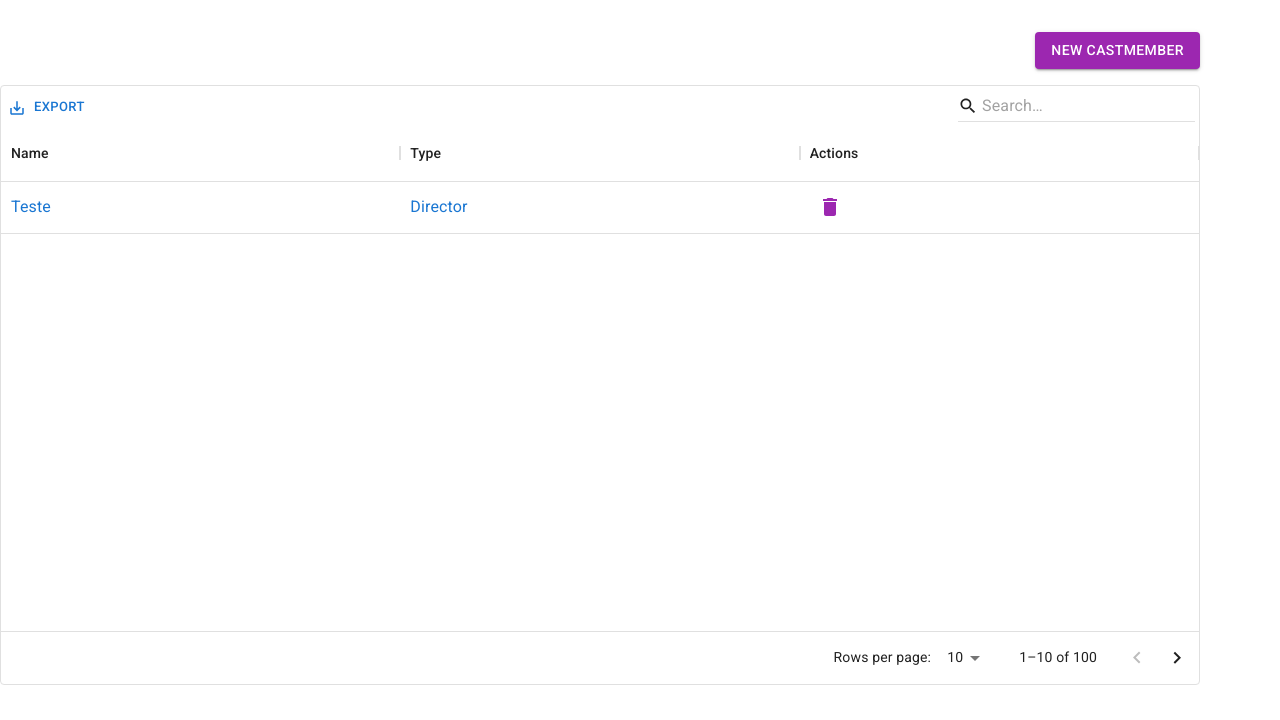
ListCastMembers › should handle Delete Category error
The image size is (1280, 720).
Expected: the text "Teste" is shown, left=11, top=195, right=51, bottom=219
Click the button with test id "delete-button".
click(830, 207)  # box left=810, top=187, right=850, bottom=227
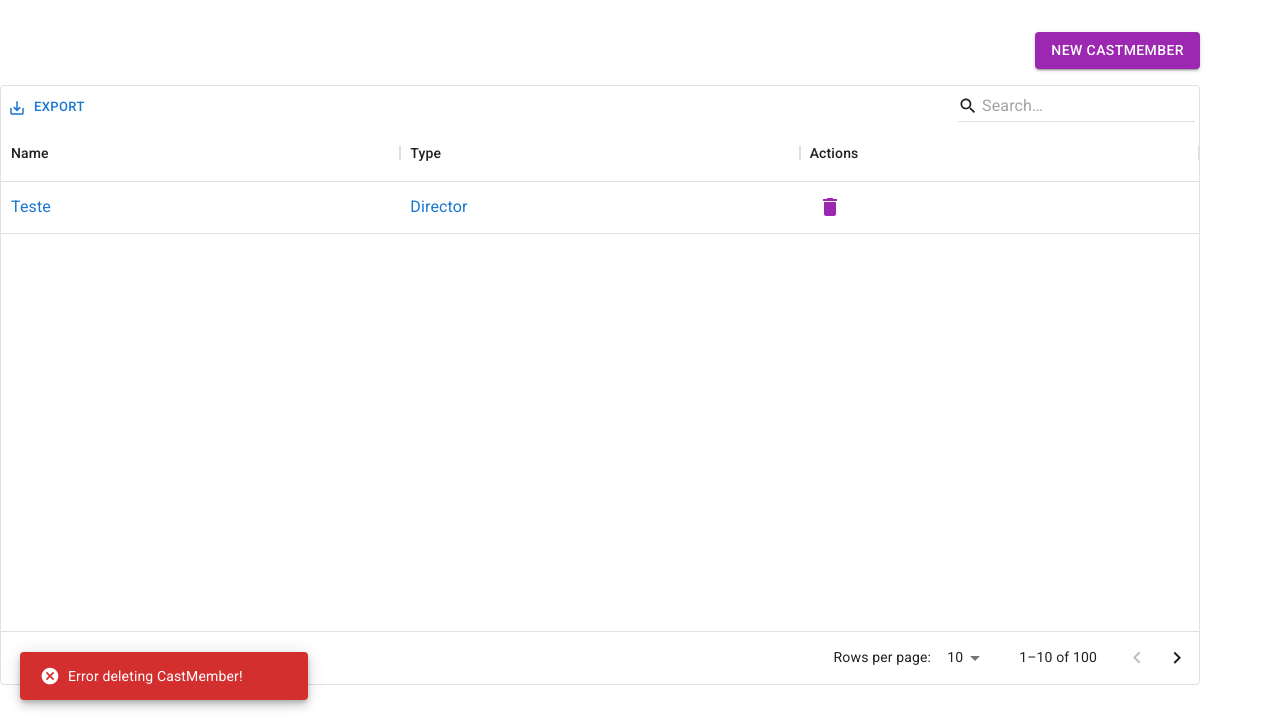
Result: the text "Error deleting CastMember!" is shown at left=40, top=666, right=243, bottom=686
